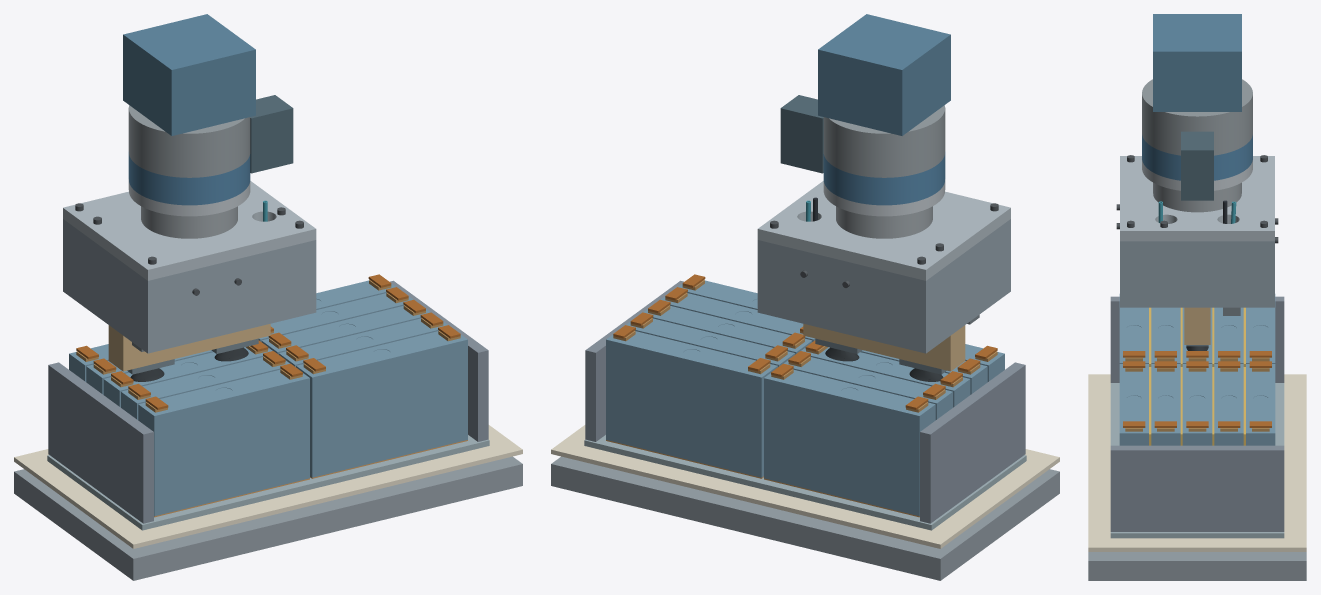
Rendered from BENCH_with_TOOL03_working_pose.glb.
The picture shows the model from 3 angles, left to right: view 1: azimuth 30°, elevation 25°; view 2: azimuth 150°, elevation 25°; view 3: azimuth 270°, elevation 25°; orthographic projection. The views are drawn at different scales.
Visible parts, largest first — view 1: 104_03-002_housing_body, 000_cell_A-2, 049_cell_B-2, 100_coil_support_plate, 181_CM-03_common_tilt_unit, 105_03-003_top_plate_t10, 101_block_end_member, 099_top_plate_nonmetal, 179_CM-01_common_changer_master, 098_cooling_plate_Al, 177_03-109_changer_tool_plate_D100, 103_03-001_nose_PEEK (+11 smaller); view 2: 104_03-002_housing_body, 040_cell_A+2, 089_cell_B+2, 100_coil_support_plate, 181_CM-03_common_tilt_unit, 105_03-003_top_plate_t10, 101_block_end_member, 099_top_plate_nonmetal, 179_CM-01_common_changer_master, 098_cooling_plate_Al, 177_03-109_changer_tool_plate_D100, 103_03-001_nose_PEEK (+11 smaller); view 3: 102_block_end_member_R, 099_top_plate_nonmetal, 104_03-002_housing_body, 181_CM-03_common_tilt_unit, 105_03-003_top_plate_t10, 100_coil_support_plate, 179_CM-01_common_changer_master, 098_cooling_plate_Al, 069_cell_B+0, 049_cell_B-2, 059_cell_B-1, 079_cell_B+1 (+13 smaller).
Part boxes in pixels (bbox=[...]): 104_03-002_housing_body: bbox=[63, 219, 316, 353]; 000_cell_A-2: bbox=[138, 370, 309, 516]; 049_cell_B-2: bbox=[296, 331, 467, 477]; 100_coil_support_plate: bbox=[14, 456, 522, 580]; 181_CM-03_common_tilt_unit: bbox=[123, 14, 255, 135]; 105_03-003_top_plate_t10: bbox=[63, 181, 316, 280]; 101_block_end_member: bbox=[48, 362, 153, 523]; 099_top_plate_nonmetal: bbox=[14, 425, 522, 548]; 179_CM-01_common_changer_master: bbox=[128, 105, 250, 177]; 098_cooling_plate_Al: bbox=[47, 435, 489, 530]; 177_03-109_changer_tool_plate_D100: bbox=[128, 152, 250, 205]; 103_03-001_nose_PEEK: bbox=[108, 324, 270, 371]; 104_03-002_housing_body: bbox=[757, 219, 1010, 353]; 040_cell_A+2: bbox=[764, 370, 935, 516]; 089_cell_B+2: bbox=[606, 331, 777, 477]; 100_coil_support_plate: bbox=[551, 456, 1059, 580]; 181_CM-03_common_tilt_unit: bbox=[818, 14, 950, 135]; 105_03-003_top_plate_t10: bbox=[757, 181, 1010, 280]; 101_block_end_member: bbox=[920, 362, 1025, 523]; 099_top_plate_nonmetal: bbox=[551, 425, 1059, 548]; 179_CM-01_common_changer_master: bbox=[823, 105, 945, 177]; 098_cooling_plate_Al: bbox=[584, 435, 1026, 530]; 177_03-109_changer_tool_plate_D100: bbox=[823, 152, 945, 205]; 103_03-001_nose_PEEK: bbox=[803, 324, 965, 371]; 102_block_end_member_R: bbox=[1110, 445, 1284, 531]; 099_top_plate_nonmetal: bbox=[1088, 374, 1306, 551]; 104_03-002_housing_body: bbox=[1120, 241, 1274, 307]; 181_CM-03_common_tilt_unit: bbox=[1153, 14, 1241, 111]; 105_03-003_top_plate_t10: bbox=[1120, 156, 1274, 241]; 100_coil_support_plate: bbox=[1088, 552, 1306, 580]; 179_CM-01_common_changer_master: bbox=[1142, 79, 1252, 155]; 098_cooling_plate_Al: bbox=[1110, 383, 1284, 538]; 069_cell_B+0: bbox=[1182, 364, 1212, 445]; 049_cell_B-2: bbox=[1119, 364, 1148, 445]; 059_cell_B-1: bbox=[1151, 364, 1180, 445]; 079_cell_B+1: bbox=[1214, 364, 1243, 445].
Bounding box in the file's own units: 0.37 × 0.424 × 0.1965.
